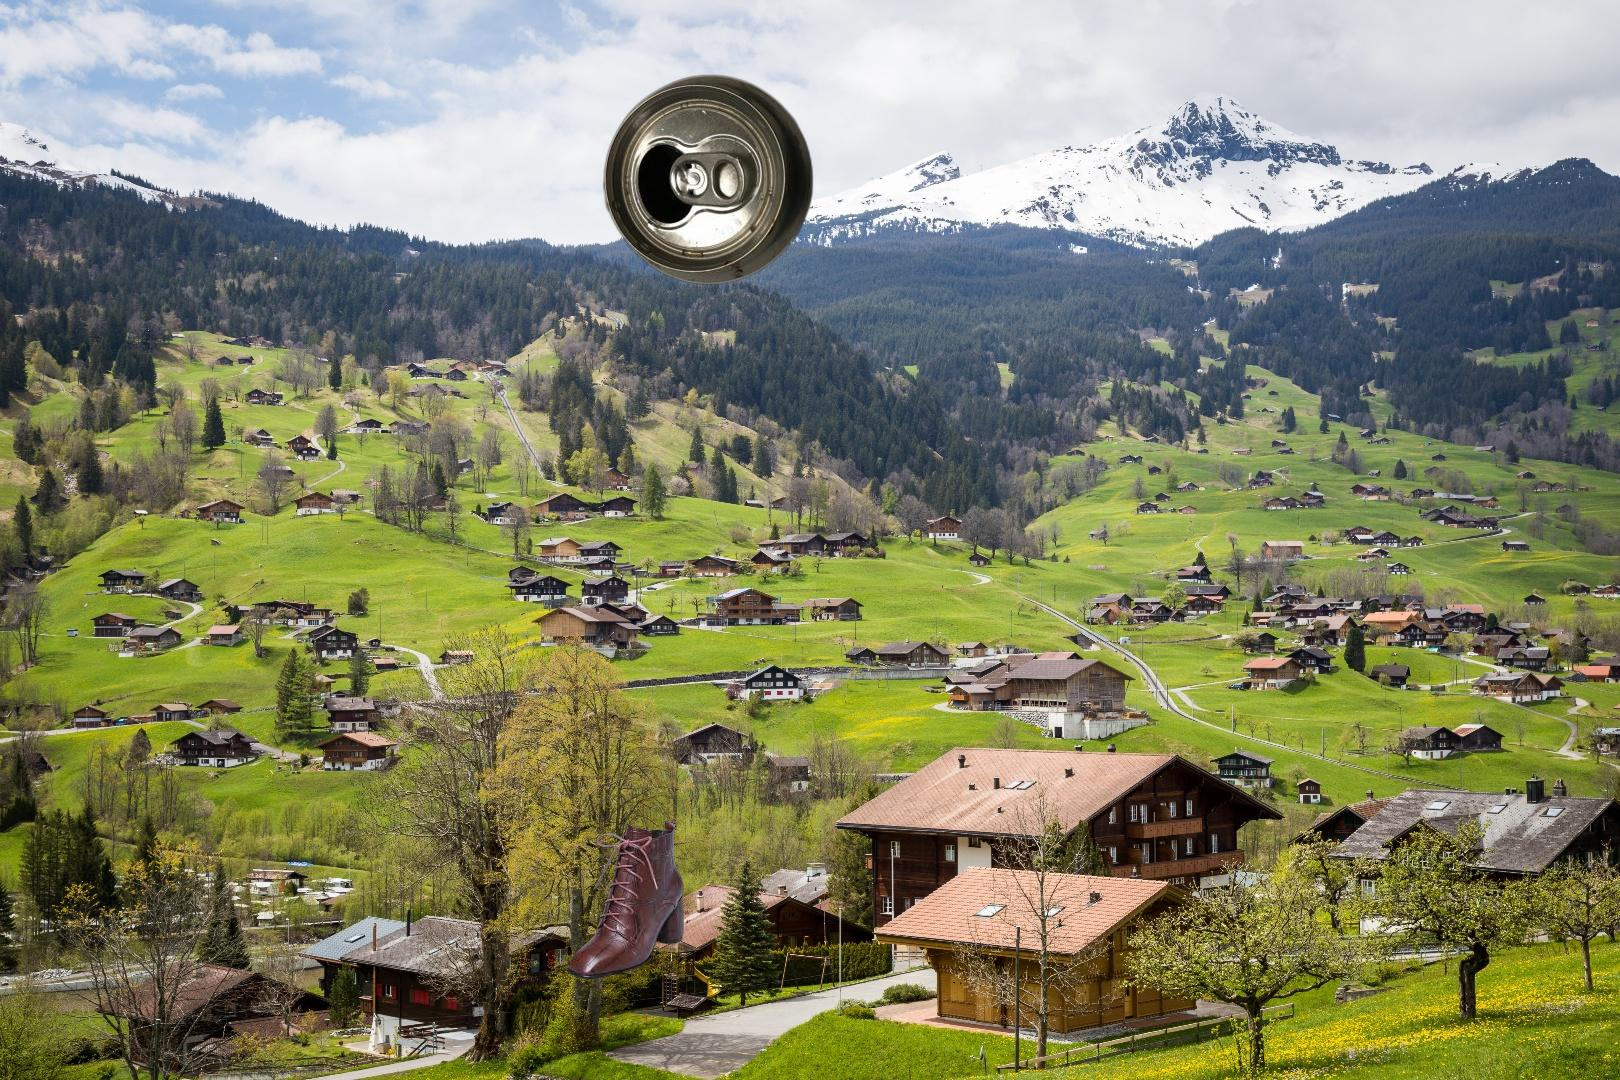metal-cans: (600, 72, 818, 286)
shoes: (563, 818, 687, 982)
